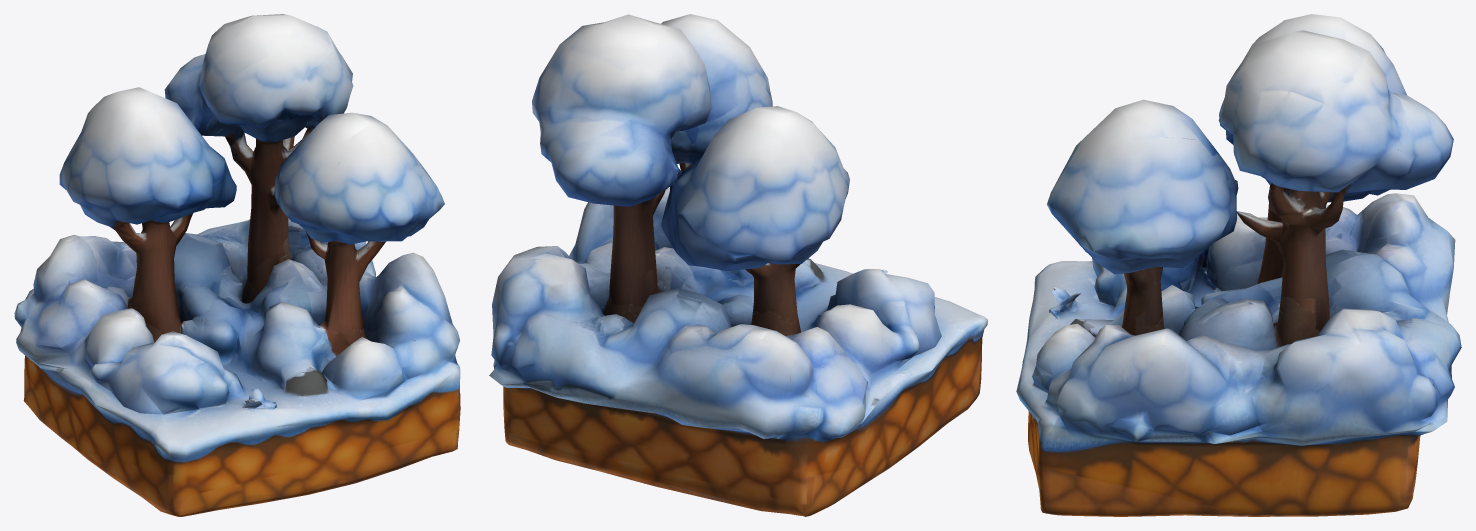
File: veg_snowy_forest.glb
The picture shows the model from 3 angles, left to right: view 1: azimuth 30°, elevation 25°; view 2: azimuth 150°, elevation 25°; view 3: azimuth 270°, elevation 25°; orthographic projection. The views are drawn at different scales.
Visible parts, largest first — view 1: Snowy Forest; view 2: Snowy Forest; view 3: Snowy Forest.
Boxes of the visible parts, <box> form: Snowy Forest: <box>14,14,460,516</box>; Snowy Forest: <box>489,14,987,516</box>; Snowy Forest: <box>1016,14,1461,516</box>.
Bounding box in the file's own units: 1.78 × 1.9 × 1.76.
Materials: 1 (1 with a texture image).
